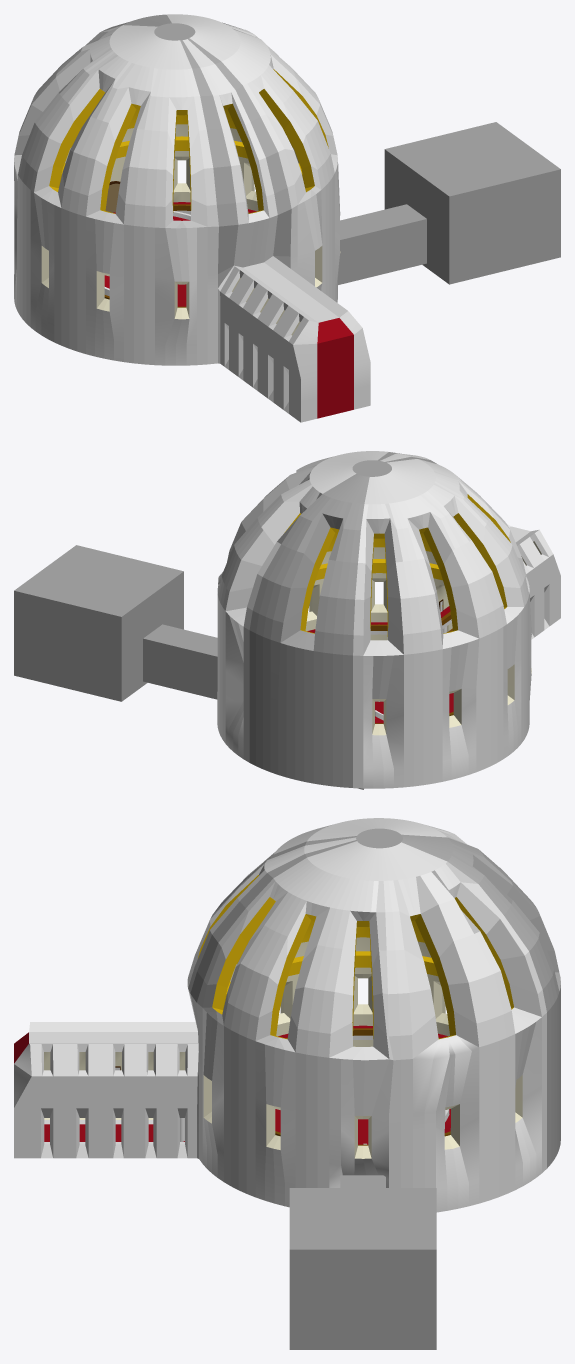
File: GreatRoom5.fbx
The picture shows the model from 3 angles, top to bottom: view 1: azimuth 30°, elevation 25°; view 2: azimuth 150°, elevation 25°; view 3: azimuth 270°, elevation 25°; orthographic projection. The views are drawn at different scales.
Parts seen in each view (by area): view 1: mesh_mainbuilding, mesh_testRoom; view 2: mesh_mainbuilding, mesh_testRoom; view 3: mesh_mainbuilding, mesh_testRoom.
Boxes of the visible parts, bbox=[...] form: mesh_mainbuilding: bbox=[14, 14, 370, 422]; mesh_testRoom: bbox=[338, 122, 560, 284]; mesh_mainbuilding: bbox=[217, 451, 560, 788]; mesh_testRoom: bbox=[14, 545, 217, 701]; mesh_mainbuilding: bbox=[14, 818, 560, 1212]; mesh_testRoom: bbox=[289, 1175, 436, 1349].
Size of the model in its own units: 161 by 88.58 by 138.
